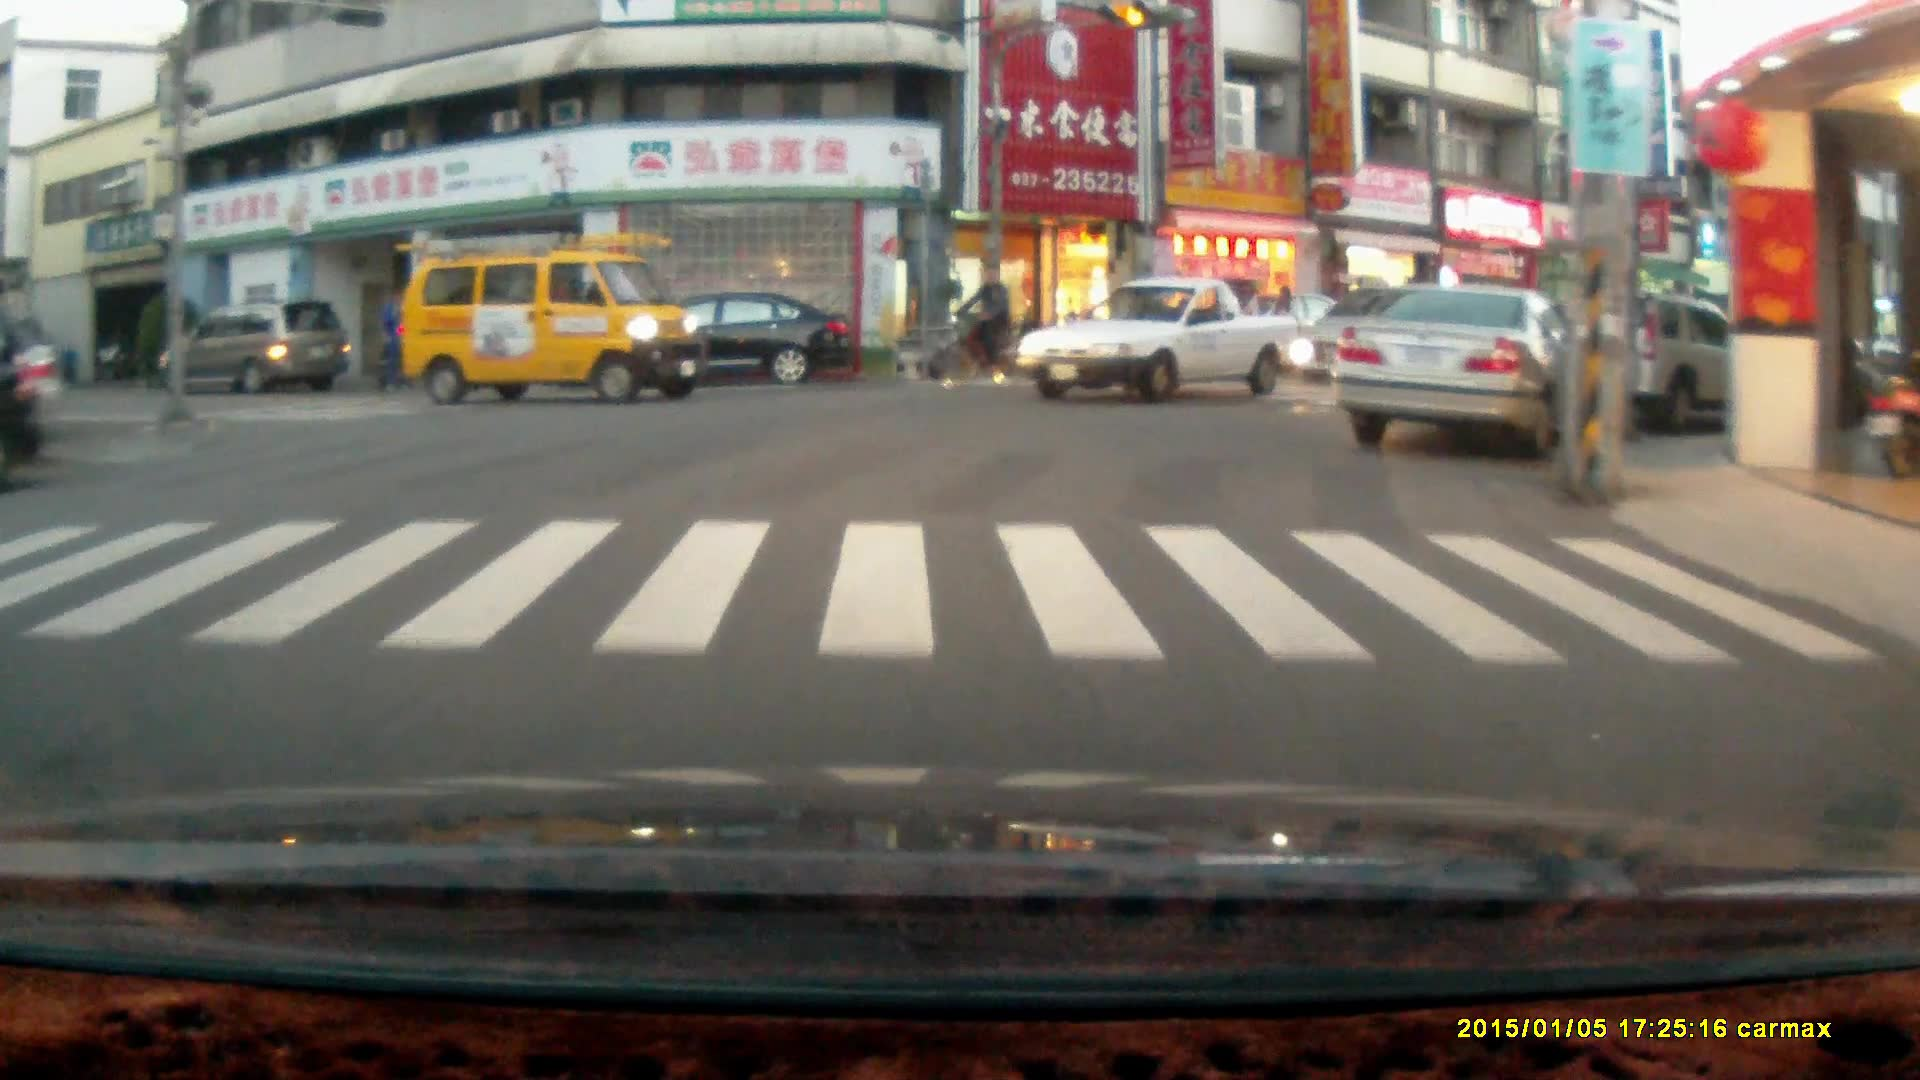pedestrian: (383, 286, 413, 387), (1270, 282, 1297, 376)
rider: (931, 260, 1024, 391)
vehicle: (399, 232, 705, 410), (1333, 284, 1581, 465), (1013, 272, 1306, 414), (1531, 288, 1784, 443), (605, 297, 853, 392), (156, 300, 355, 403)
